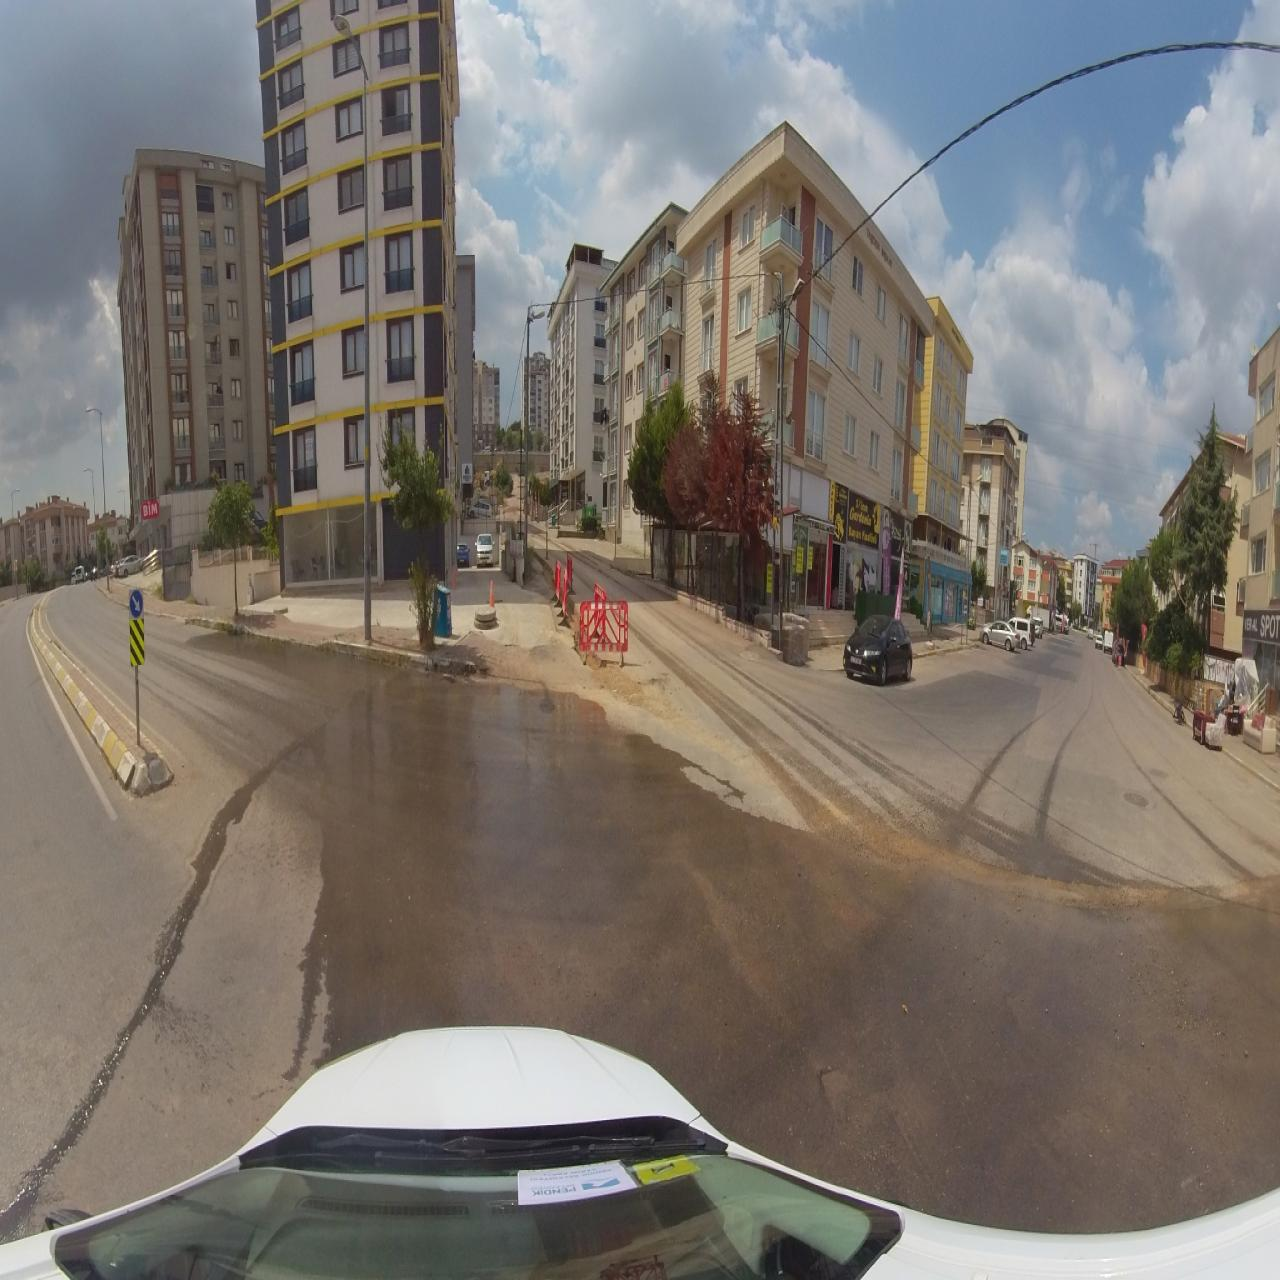Utility Pole Information Plate: (772, 517, 777, 530)
